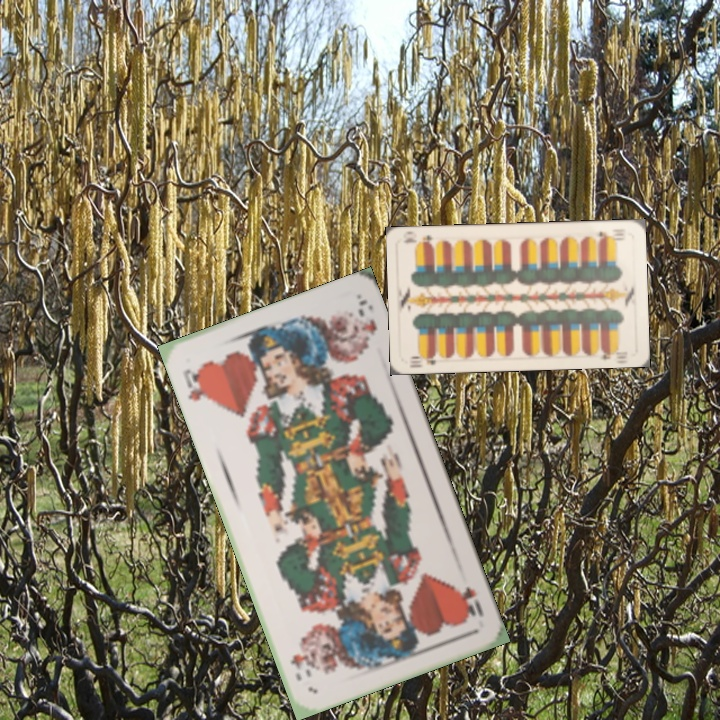E10: (407, 349, 439, 367), (595, 227, 626, 243)
HO: (179, 364, 213, 404), (453, 582, 486, 620)
